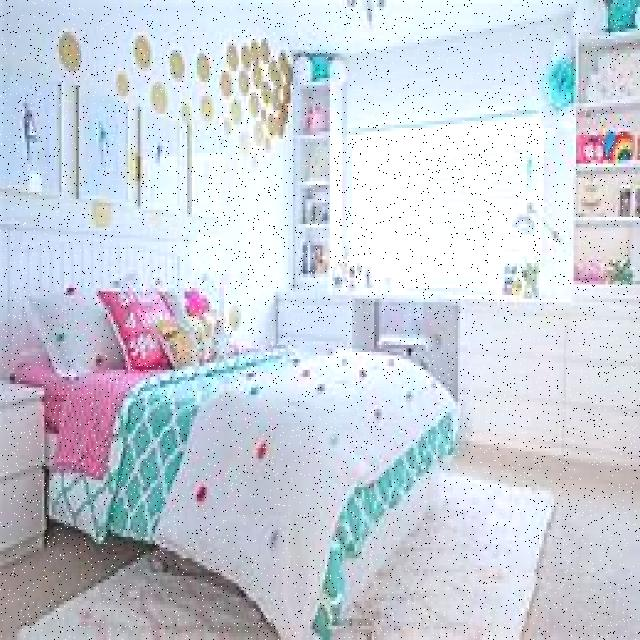bed: (30, 272, 516, 637)
